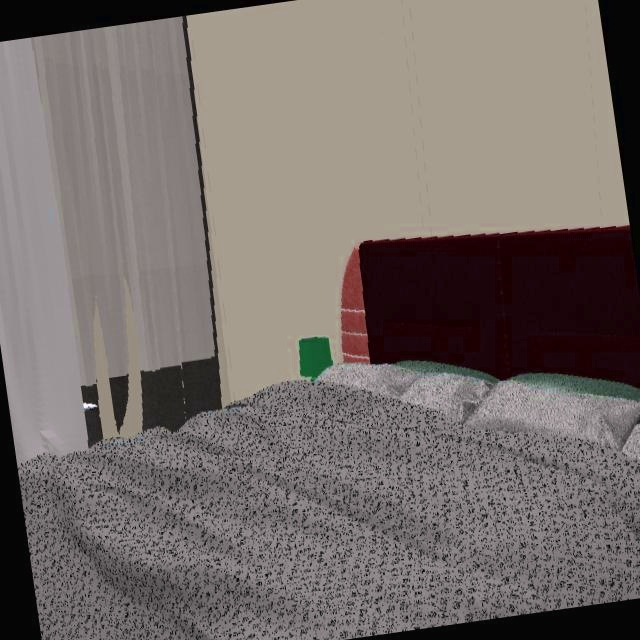bed: (18, 225, 640, 640)
lamp: (299, 338, 335, 378)
pillow: (318, 360, 640, 450)
